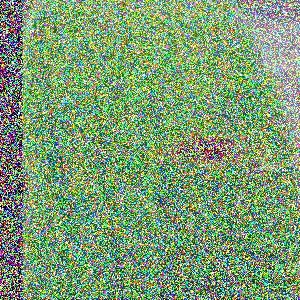Bacterial_Leaf_Blight: (161, 121, 260, 175)
